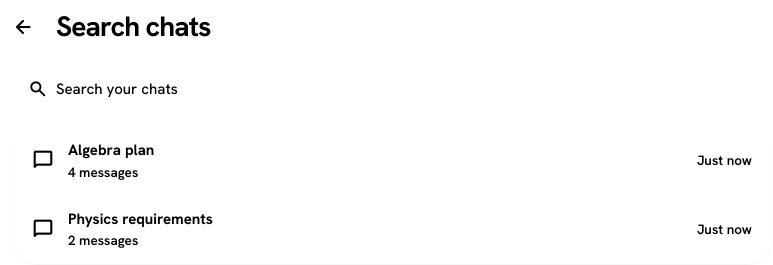
Test: lists chats and filters them on the search page
Expected: the text "Algebra plan" is shown, [68,140,154,160]
Expected: the text "Physics requirements" is shown, [68,209,213,229]
Type "physics" into the search field labelled "Search your chats" at coordinates (406, 89), box [56,69,756,109]
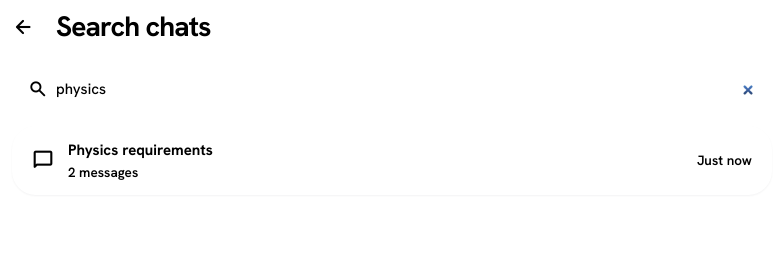
Expected: the text "Physics requirements" is shown, [68,140,213,160]
Expected: the button "Algebra plan" is gone
